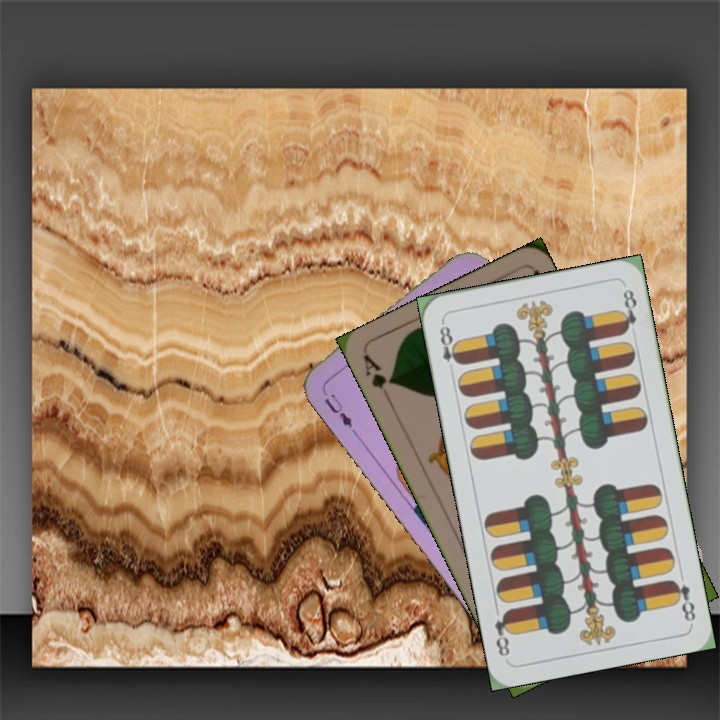E8: (667, 575, 698, 624), (435, 318, 464, 368)
EU: (318, 385, 355, 431)
GA: (359, 351, 396, 406)
